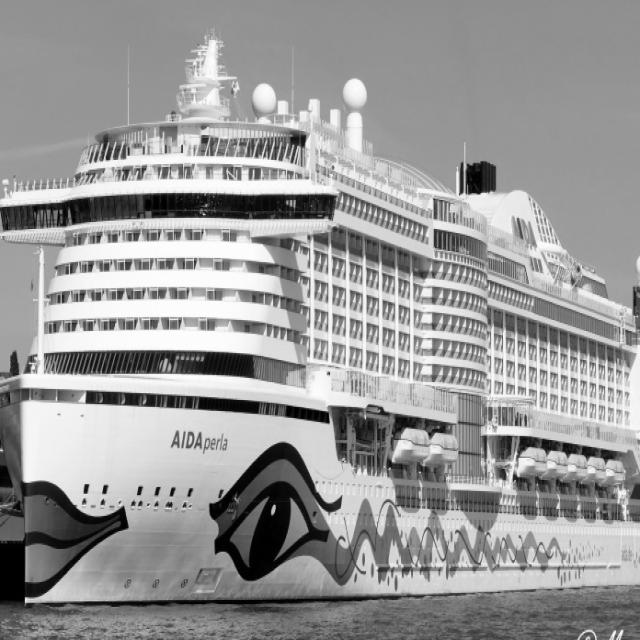cruises: (1, 26, 640, 612)
